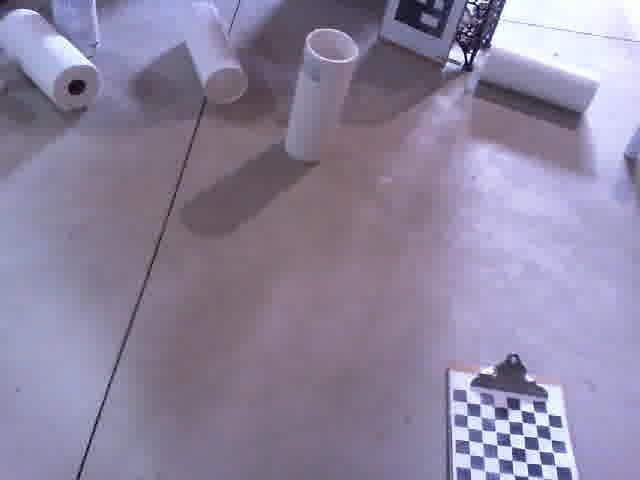coral: (277, 18, 368, 166), (472, 40, 607, 115), (175, 0, 255, 111)
